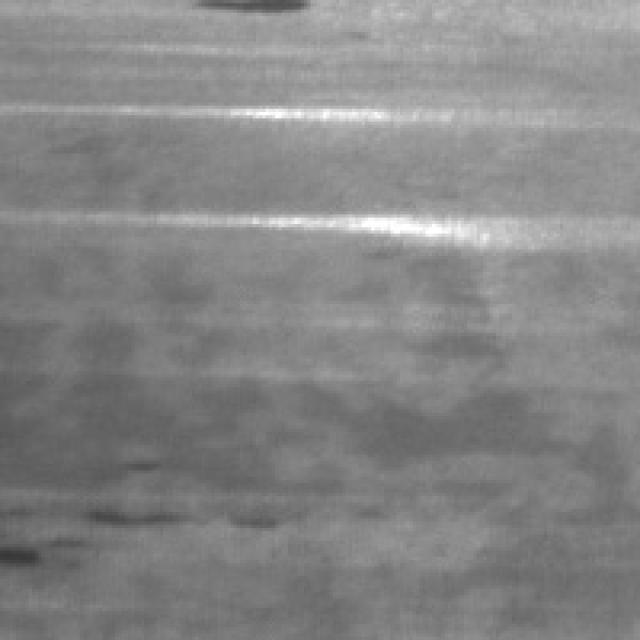inclusion: (0, 499, 179, 563)
scratches: (74, 195, 611, 250), (28, 86, 506, 134)
